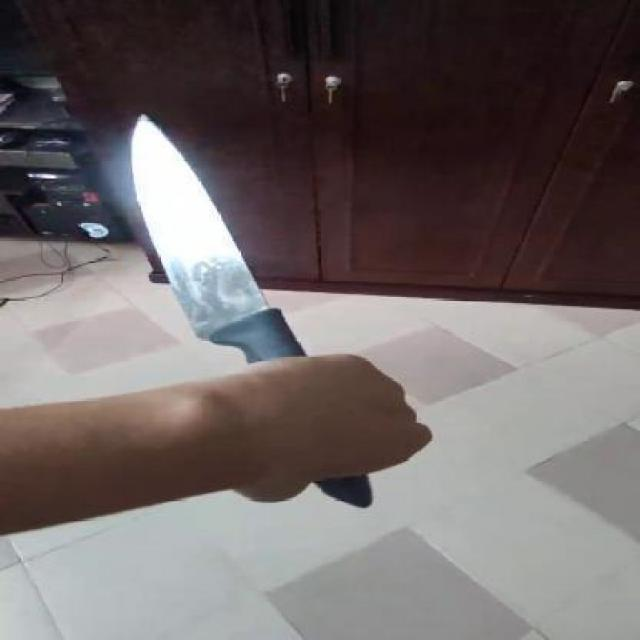-: (88, 106, 346, 360)
